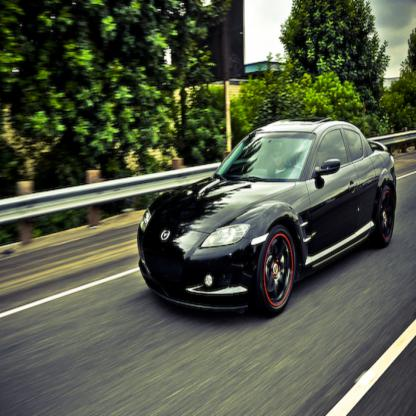Car: (137, 117, 398, 320)
